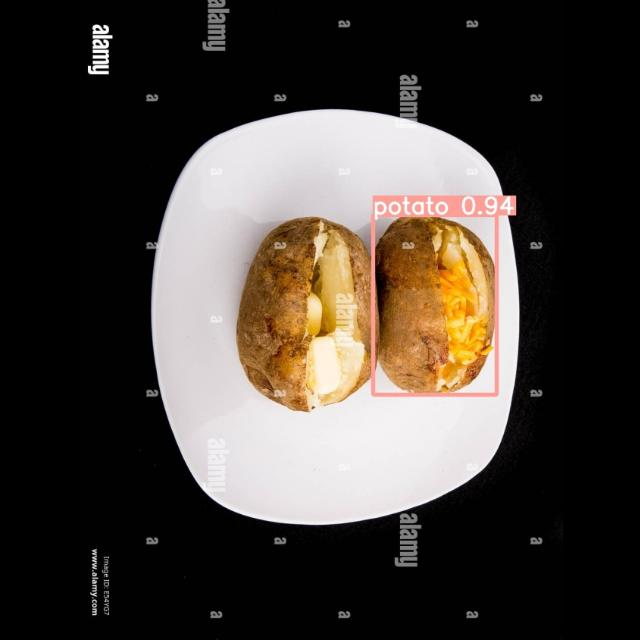Damaged potato: (214, 201, 386, 423), (372, 216, 496, 394)
